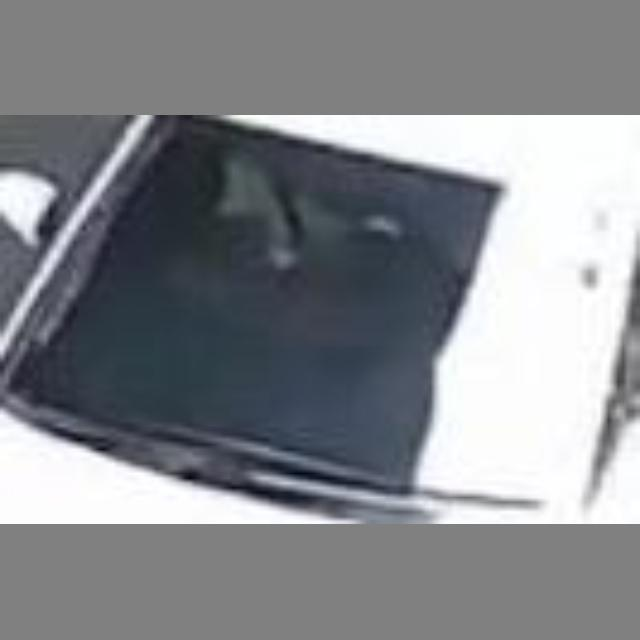pakai: (221, 144, 404, 317)
